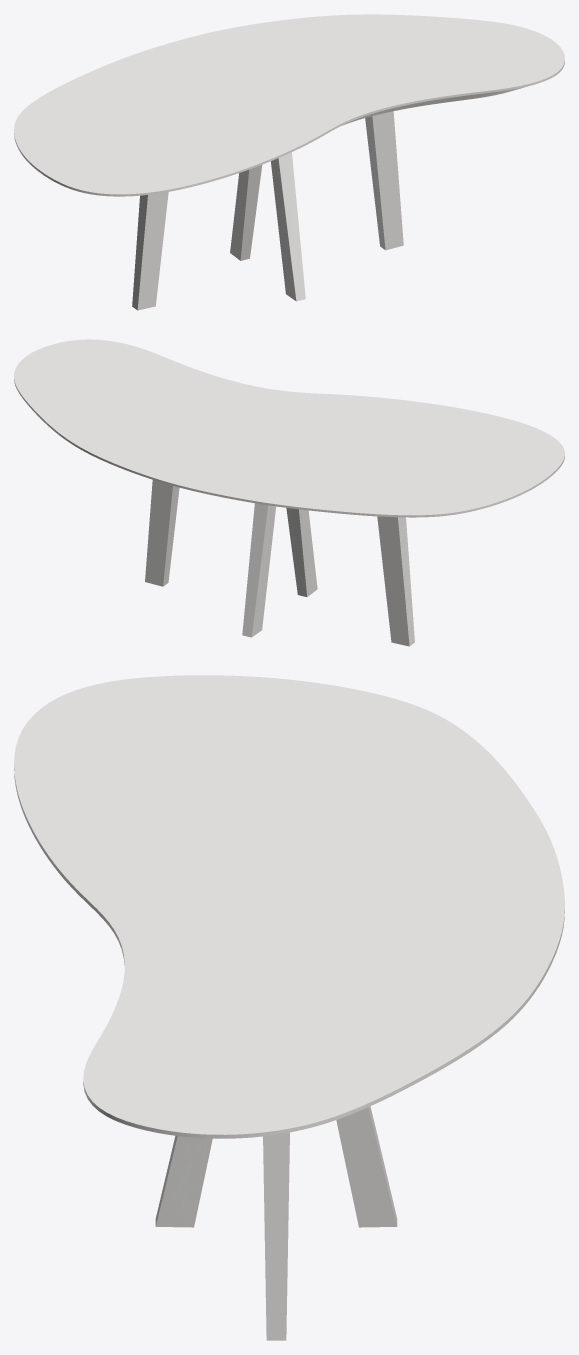
The model's file is purewhite_leaf1_facet_searwalnut.glb.
3 renders of one model, top to bottom at view 1: azimuth 30°, elevation 25°; view 2: azimuth 150°, elevation 25°; view 3: azimuth 270°, elevation 25°, orthographic. The views are drawn at different scales.
Parts seen in each view (by area): view 1: facet_leaf1, searwalnut; view 2: facet_leaf1, searwalnut; view 3: facet_leaf1, searwalnut.
Boxes of the visible parts, x1=… form: facet_leaf1: x1=14, y1=14, x2=564, y2=196; searwalnut: x1=132, y1=111, x2=403, y2=310; facet_leaf1: x1=14, y1=339, x2=564, y2=517; searwalnut: x1=145, y1=480, x2=414, y2=646; facet_leaf1: x1=14, y1=675, x2=564, y2=1138; searwalnut: x1=155, y1=1106, x2=397, y2=1340.
Size of the model in its own units: 7.5 by 2.5 by 3.8.
Materials: 1 (1 with a texture image).
